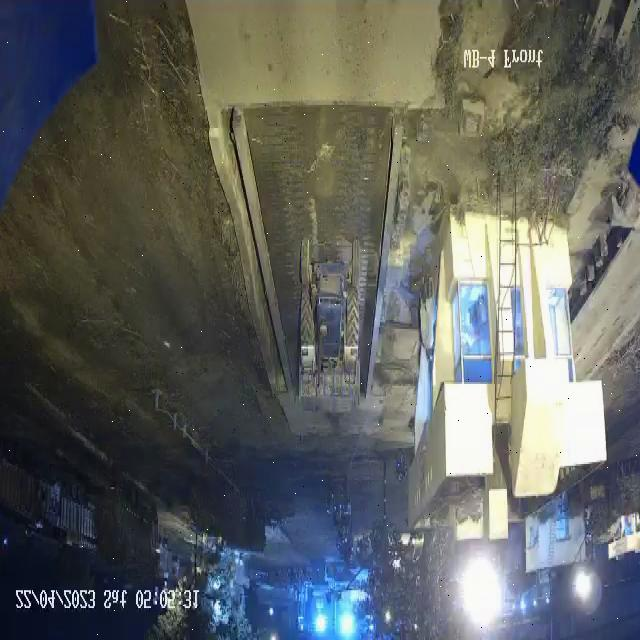Tratores - v5 YOLO V8L 2024-11-13: (294, 231, 370, 377), (324, 470, 356, 537)
